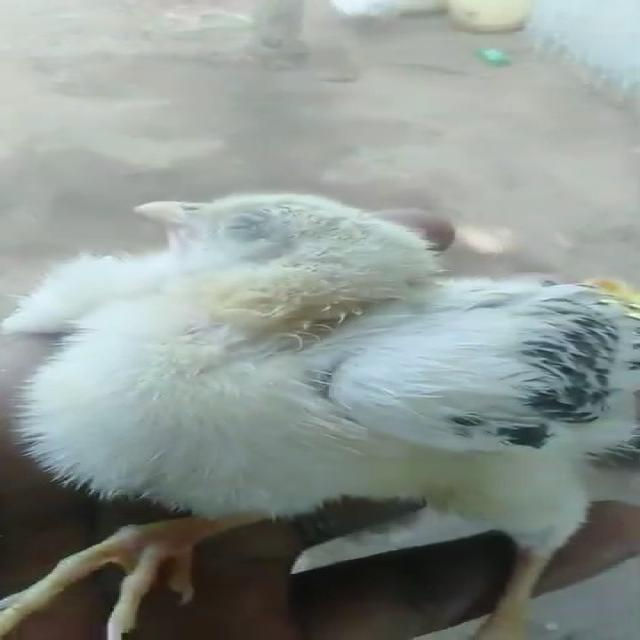newcastle: (35, 176, 640, 638)
